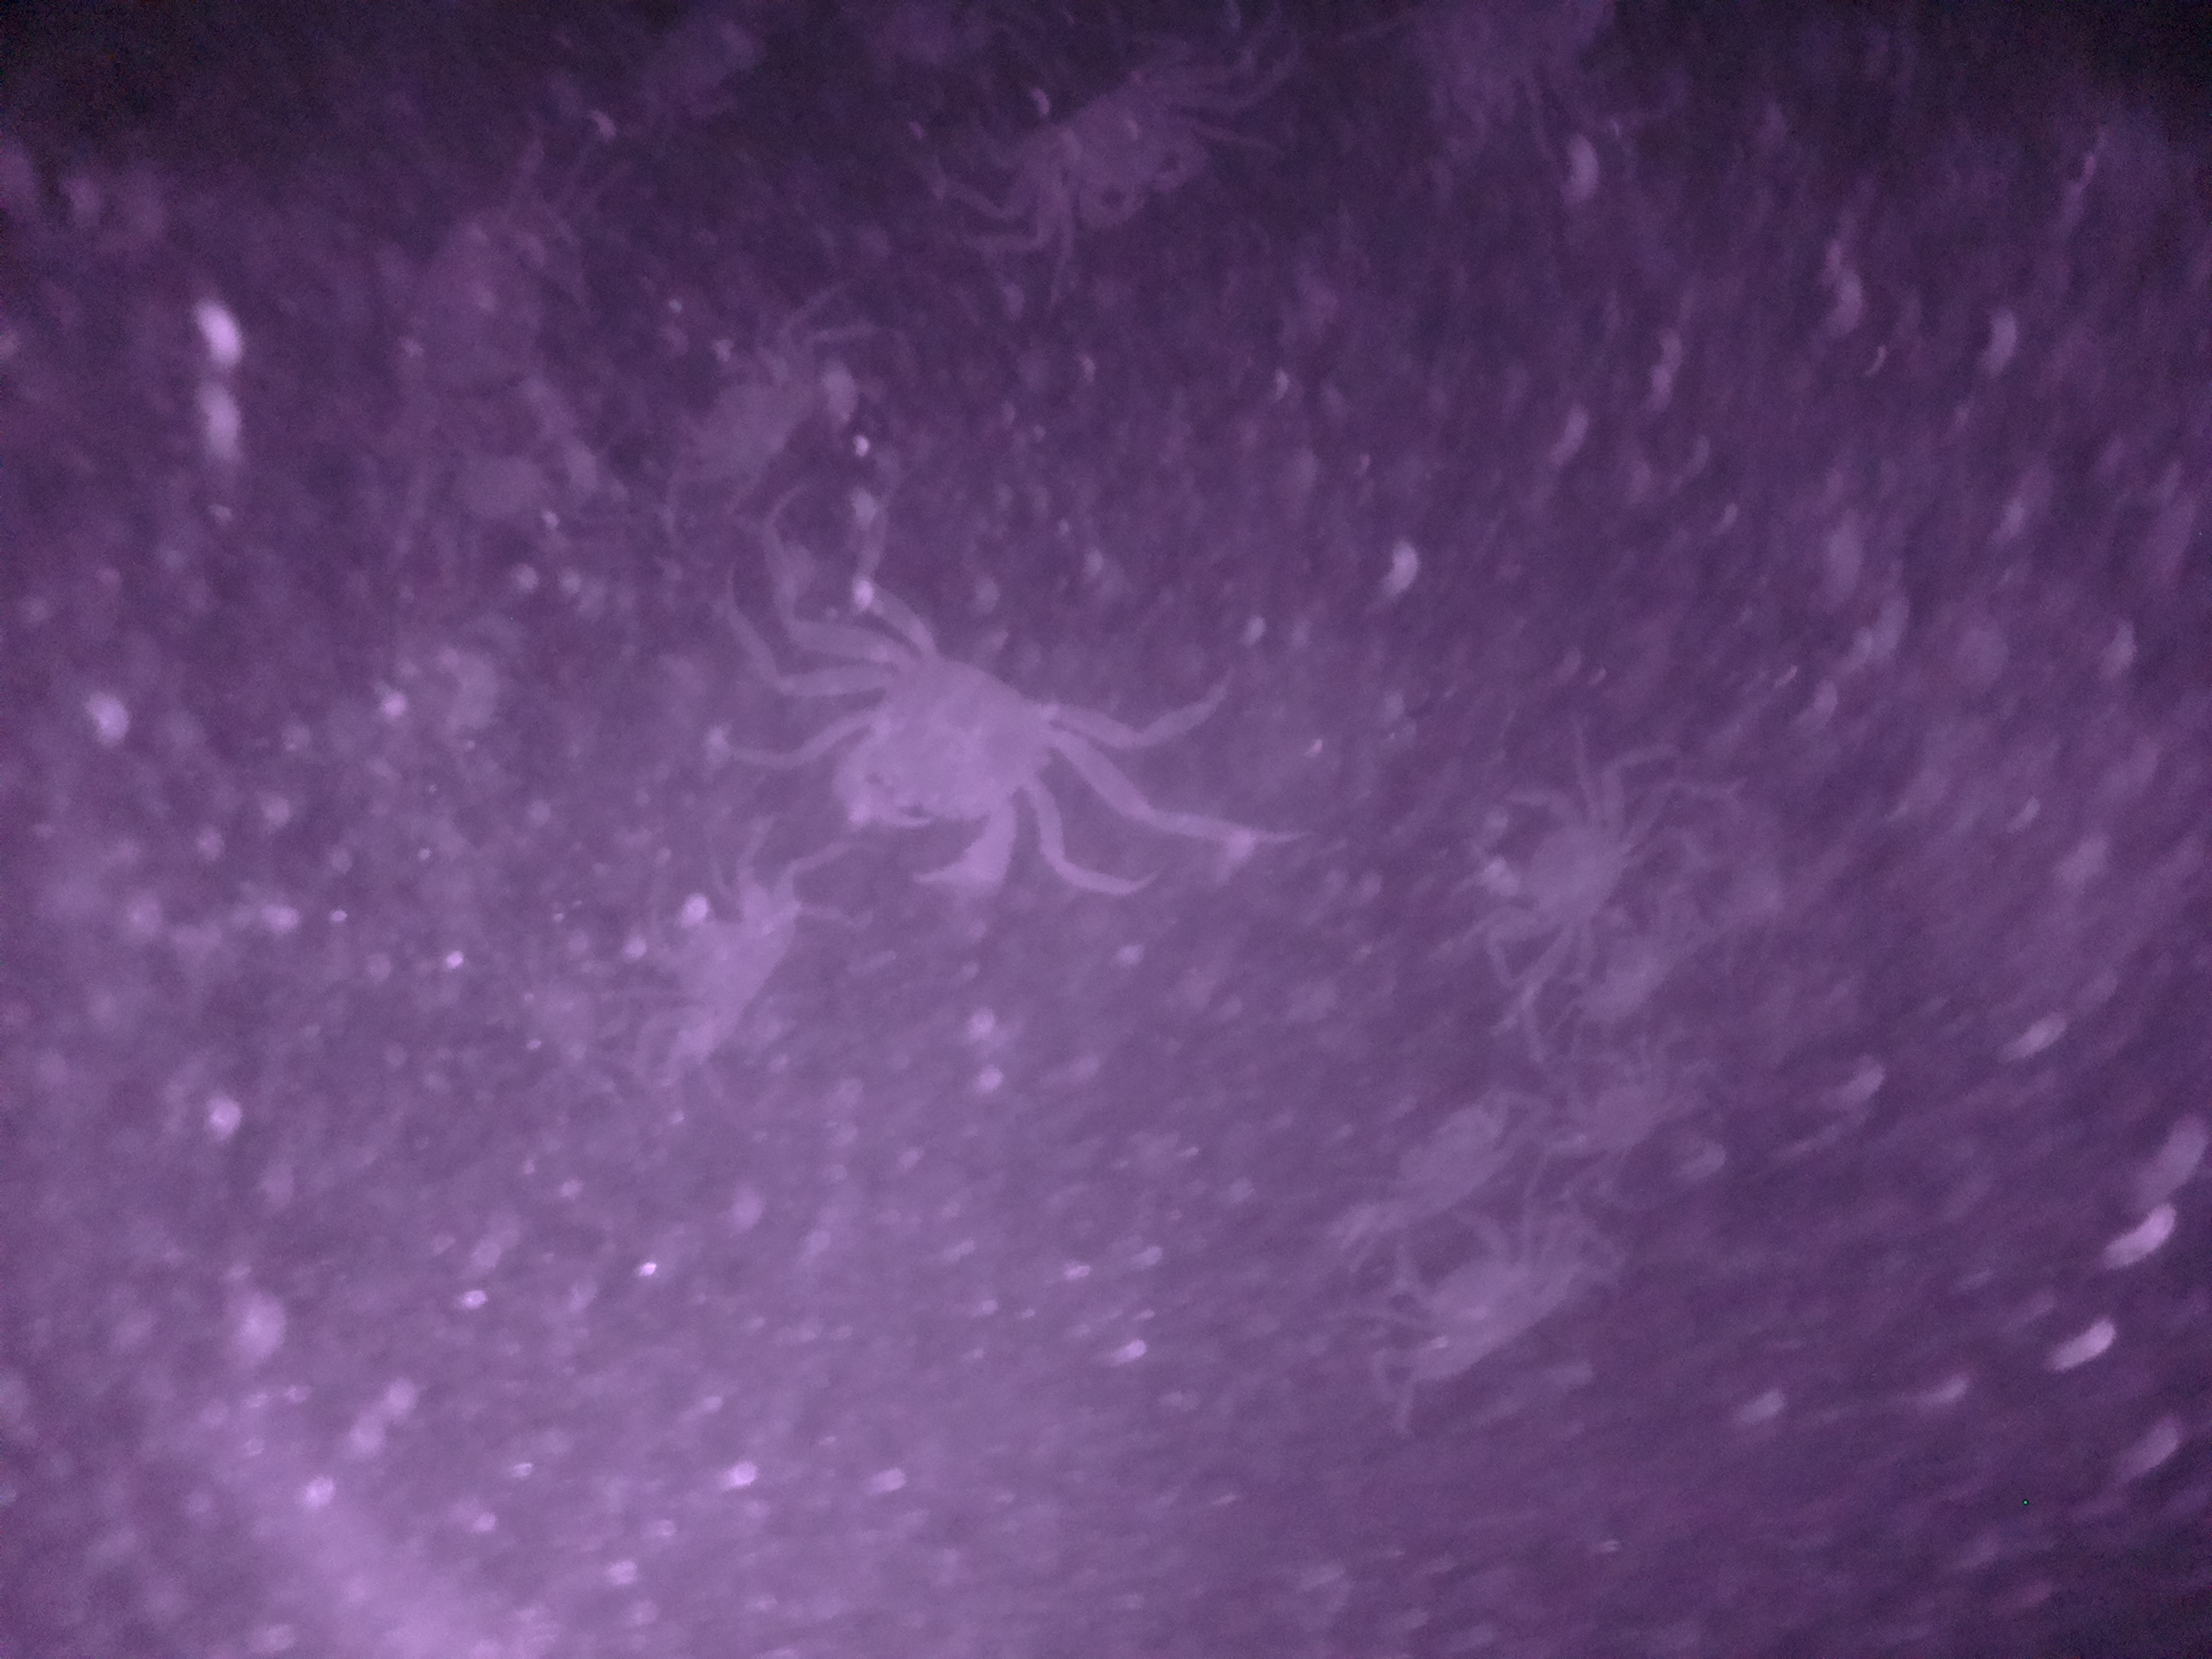Crab: (1460, 741, 1653, 967), (1383, 1190, 1552, 1396)
